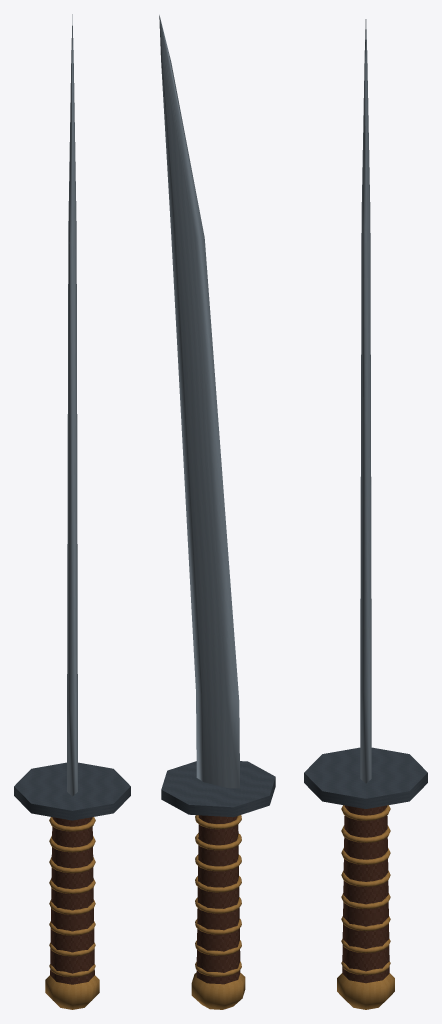
Rendered from katana.lod2.glb.
3 renders of one model, left to right at view 1: azimuth 90°, elevation 25°; view 2: azimuth 150°, elevation 25°; view 3: azimuth 270°, elevation 25°, orthographic. The views are drawn at different scales.
Visible parts, largest first — view 1: blade, leather.0, iron.11, brass.10, brass.8; view 2: blade, leather.0, iron.11, brass.10, brass.7, brass.6, brass.5, brass.8, brass.4; view 3: blade, leather.0, iron.11, brass.10, brass.7, brass.8, brass.6, brass.5.
Part boxes in pixels (bbox=[...]): blade: bbox=[67, 14, 77, 796]; leather.0: bbox=[50, 817, 94, 984]; iron.11: bbox=[14, 762, 130, 820]; brass.10: bbox=[45, 975, 99, 1009]; brass.8: bbox=[49, 817, 95, 831]; blade: bbox=[159, 15, 239, 788]; leather.0: bbox=[196, 815, 240, 984]; iron.11: bbox=[161, 761, 275, 817]; brass.10: bbox=[191, 972, 245, 1009]; brass.7: bbox=[195, 833, 241, 850]; brass.6: bbox=[195, 854, 241, 871]; brass.5: bbox=[195, 876, 241, 892]; brass.8: bbox=[195, 815, 241, 829]; brass.4: bbox=[195, 897, 241, 913]; blade: bbox=[360, 19, 371, 783]; leather.0: bbox=[342, 805, 389, 983]; iron.11: bbox=[304, 747, 427, 808]; brass.10: bbox=[337, 973, 394, 1009]; brass.7: bbox=[341, 825, 390, 842]; brass.8: bbox=[341, 805, 390, 820]; brass.6: bbox=[341, 848, 390, 864]; brass.5: bbox=[341, 870, 390, 886].
Bounding box in the file's own units: 0.1401 × 1.19 × 0.13.
4 materials, 4 textured.
